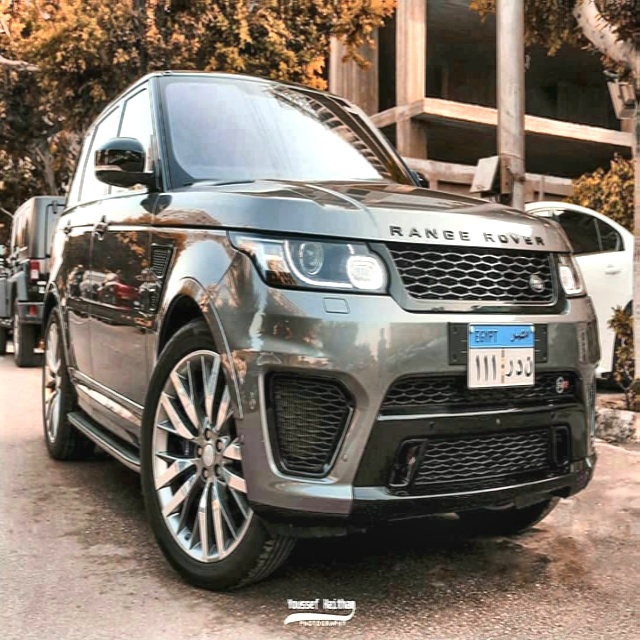License Plate: (465, 318, 537, 391)
